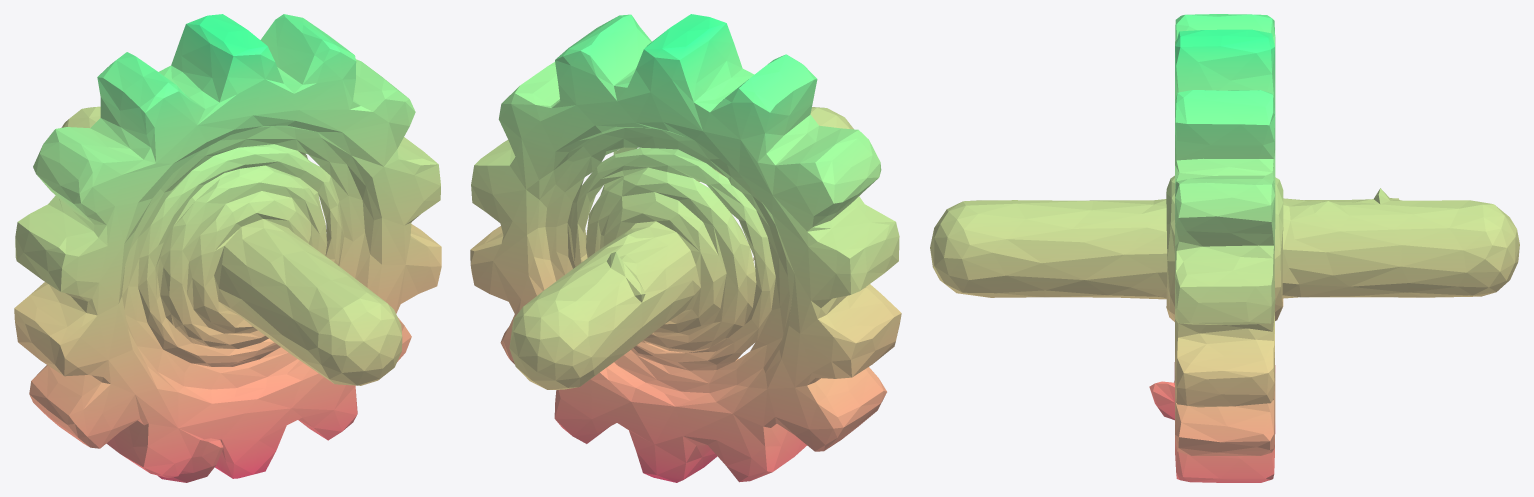
File: 43_cyb_laser_gradient_fish_scales_2878_2026_10_03_0cec73.glb
The picture shows the model from 3 angles, left to right: view 1: azimuth 30°, elevation 25°; view 2: azimuth 150°, elevation 25°; view 3: azimuth 270°, elevation 25°; orthographic projection.
Parts seen in each view (by area): view 1: geometry_0; view 2: geometry_0; view 3: geometry_0.
Boxes of the visible parts, x1,y1,x2,y2 form: geometry_0: (14,14,441,482); geometry_0: (470,14,901,482); geometry_0: (930,14,1519,482).
Size of the model in its own units: 0.7533 by 0.7971 by 1.
